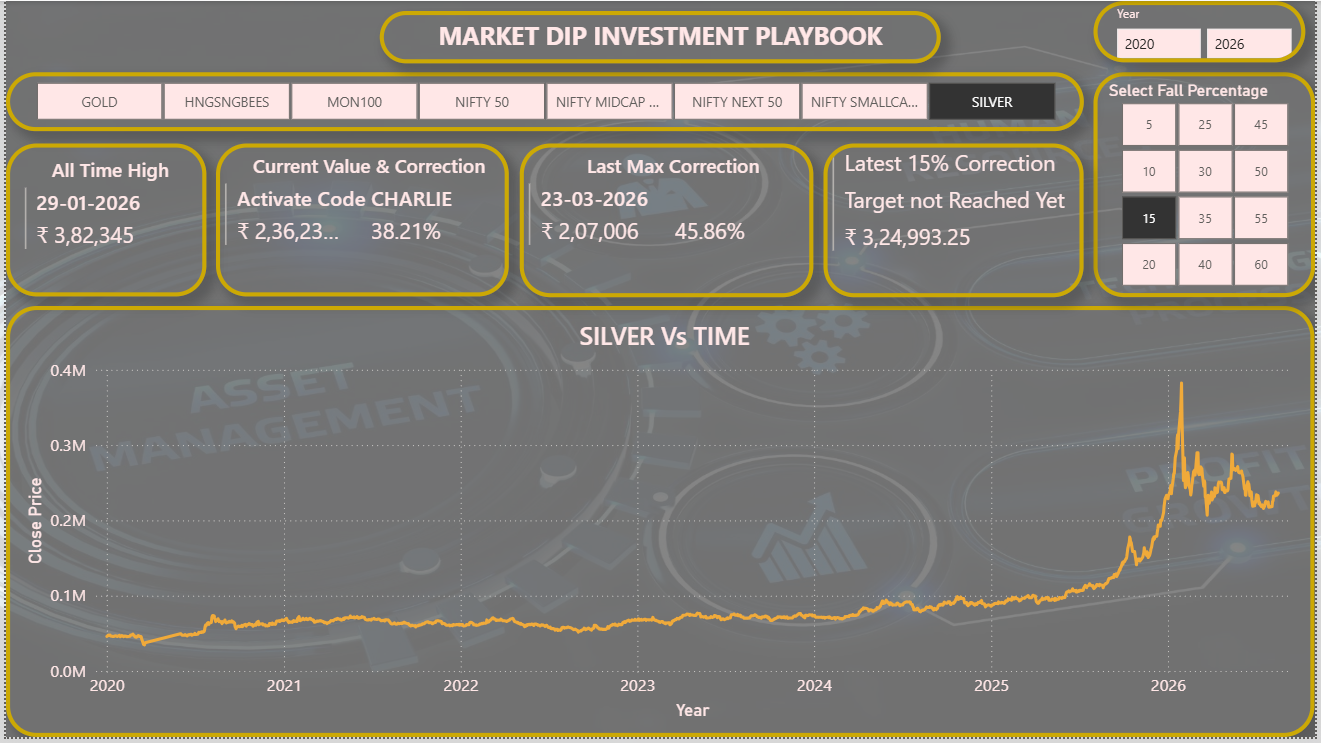

What the dashboard file says about the page in this screenshot:
{"tool":"powerbi","page":{"name":"Dashboard","canvas":[1280,720],"ordinal":0},"visuals":[{"type":"slicer","fields":{"Values":["Commodities.Asset Class"]},"box":[0,69.7,1054.1,57.5],"z":0},{"type":"multiRowCard","title":"All Time High","fields":{"Values":["Combine Data.Dt ATH","Combine Data.ATH"]},"box":[0,140,196.2,149.6],"z":1000},{"type":"multiRowCard","title":"Current Value & Correction","fields":{"Values":["Combine Data.Current Value","Combine Data.Current Correction","Combine Data.Play Book"]},"box":[205.8,140,286.8,149.6],"z":2000},{"type":"multiRowCard","title":"Last Max Correction","fields":{"Values":["Combine Data.dt max correction","Combine Data.Max correction","Combine Data.Max correction(%)"]},"box":[502.4,139.4,287.4,150.4],"z":3000},{"type":"lineChart","fields":{"Category":["Combine Data.DATE.Variation.Date Hierarchy.Year","Combine Data.DATE.Variation.Date Hierarchy.Quarter","Combine Data.DATE.Variation.Date Hierarchy.Month","Combine Data.DATE.Variation.Date Hierarchy.Day"],"Y":["Sum(Combine Data.ADJ. PRICE)"]},"box":[0,298.4,1280.3,421.9],"z":4000},{"type":"slicer","fields":{"Values":["Fall Percentage.Fall Percentage"]},"box":[1063.9,69.7,216.4,220.1],"z":5000},{"type":"multiRowCard","title":"Latest Correction","fields":{"Values":["Fall Percentage.Header","Combine Data.Date of Fall","Combine Data.Fall Value"]},"box":[799.5,139.4,254.3,150.4],"z":6000},{"type":"textbox","box":[365.5,9.8,549.1,51.4],"z":7000},{"type":"slicer","fields":{"Values":["Combine Data.DATE.Variation.Date Hierarchy.Year"]},"box":[1063.5,0,207.2,60.4],"z":8000}]}

Visuals, with their boxes in screenshot pixels (x1, y1, x2, y2), scaled from the page's 1280x720 canvas onto the 1321x743 screenshot:
slicer - Commodities.Asset Class: BBox(0, 72, 1088, 131)
"All Time High" multiRowCard: BBox(0, 144, 202, 299)
"Current Value & Correction" multiRowCard: BBox(212, 144, 508, 299)
"Last Max Correction" multiRowCard: BBox(518, 144, 815, 299)
lineChart - Combine Data.DATE.Variation.Date Hierarchy.Year x Combine Data.DATE.Variation.Date Hierarchy.Quarter: BBox(0, 308, 1320, 742)
slicer - Fall Percentage.Fall Percentage: BBox(1098, 72, 1320, 299)
"Latest Correction" multiRowCard: BBox(825, 144, 1088, 299)
textbox: BBox(377, 10, 944, 63)
slicer - Combine Data.DATE.Variation.Date Hierarchy.Year: BBox(1098, 0, 1311, 62)
